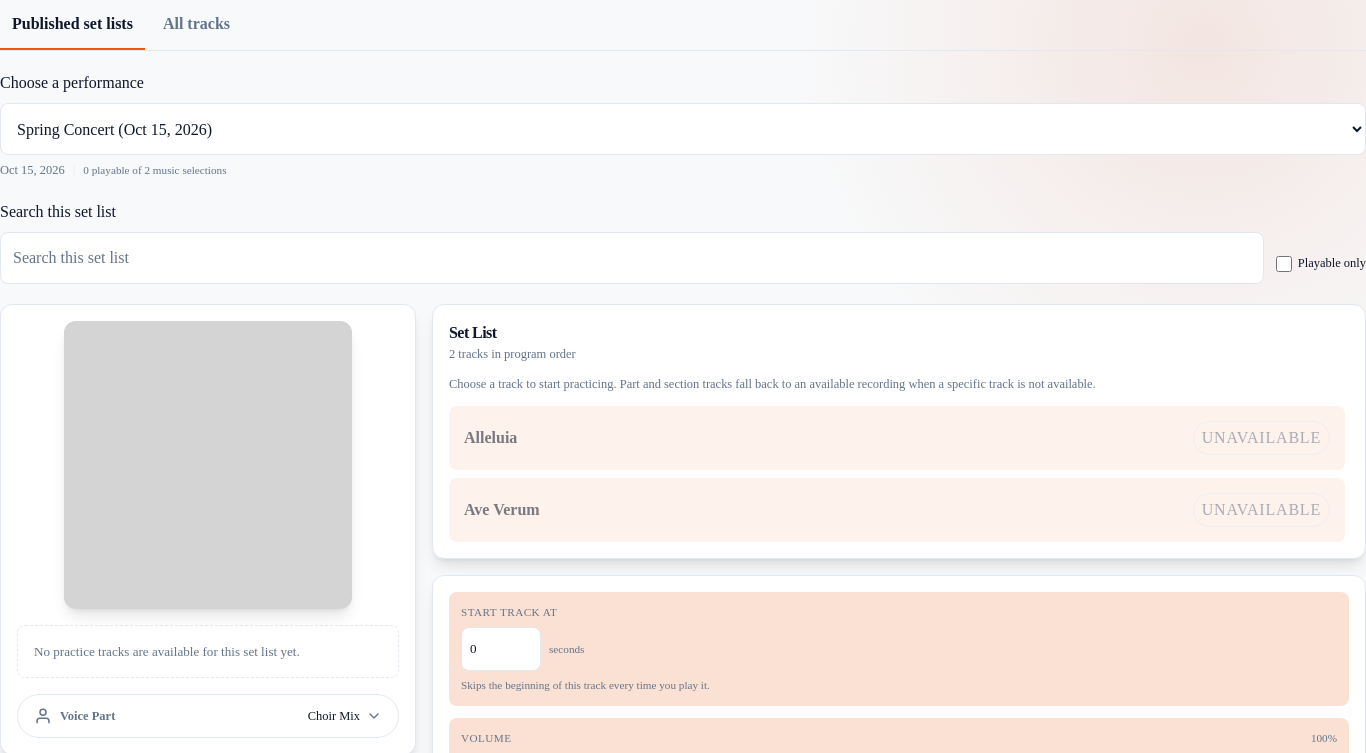
it: MemberPracticeView playable-only filter › shows empty state when no tracks match playable filter
The image size is (1366, 753).
Click the tab "All tracks": (196, 25) [151,0,242,50]
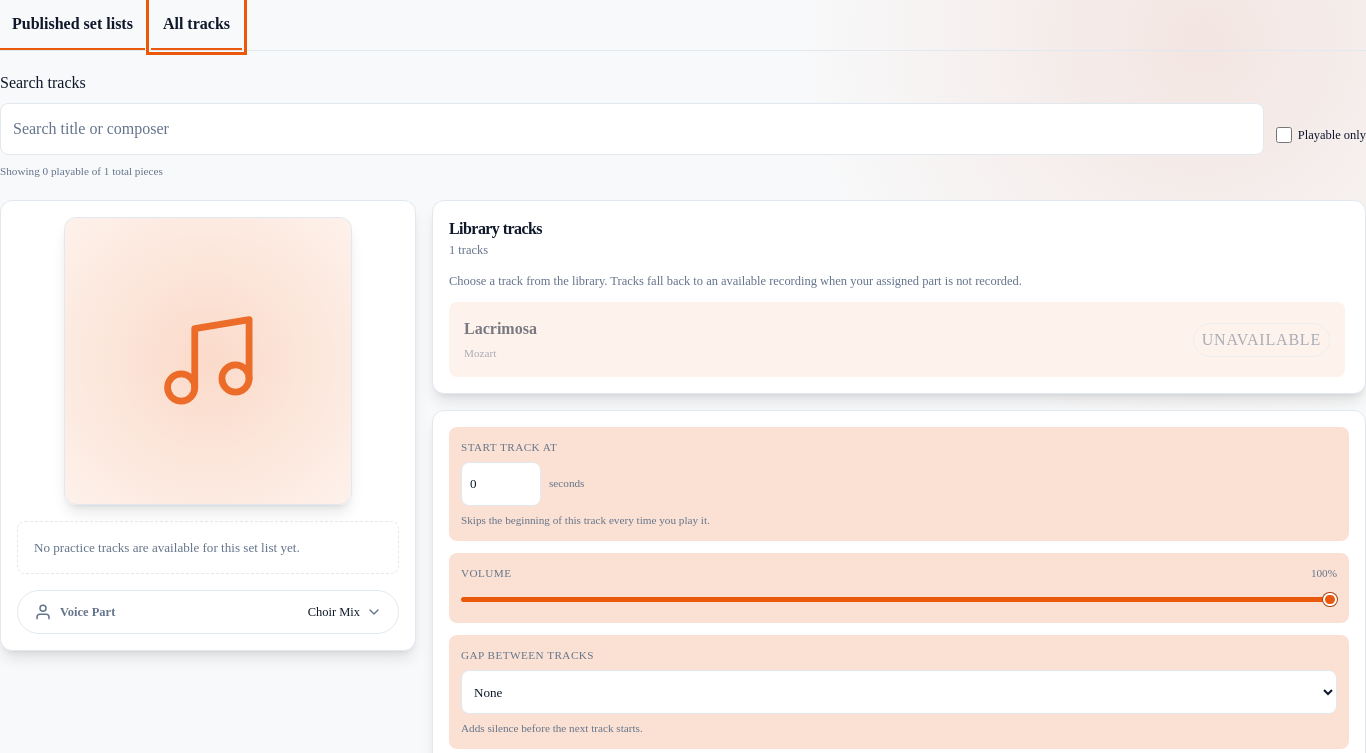
Expected: the text "Showing 0 playable of 1 total pieces" is shown, [0,165,163,177]
Click the checkbox labelled "Playable only": (1284, 135) [1276,127,1292,143]
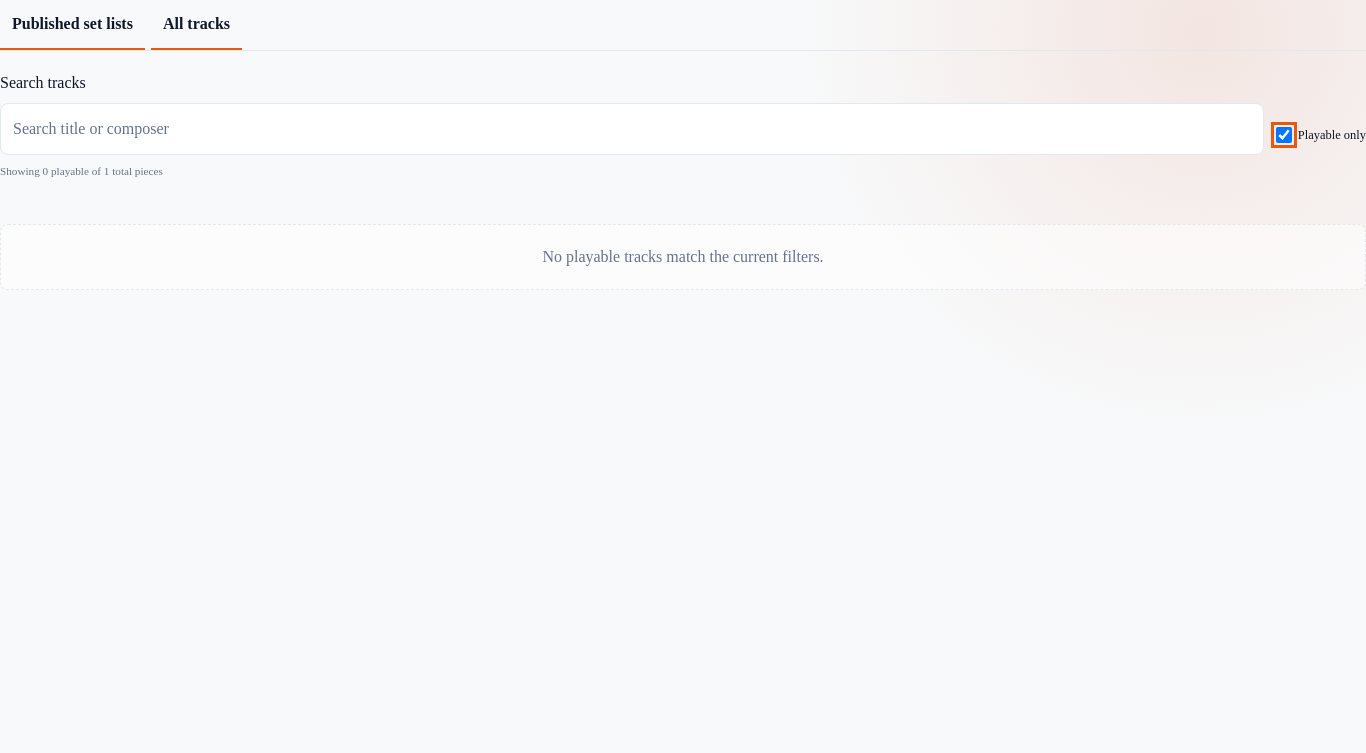
Expected: the text "No playable tracks match the current filters." is shown, [0,224,1365,290]
